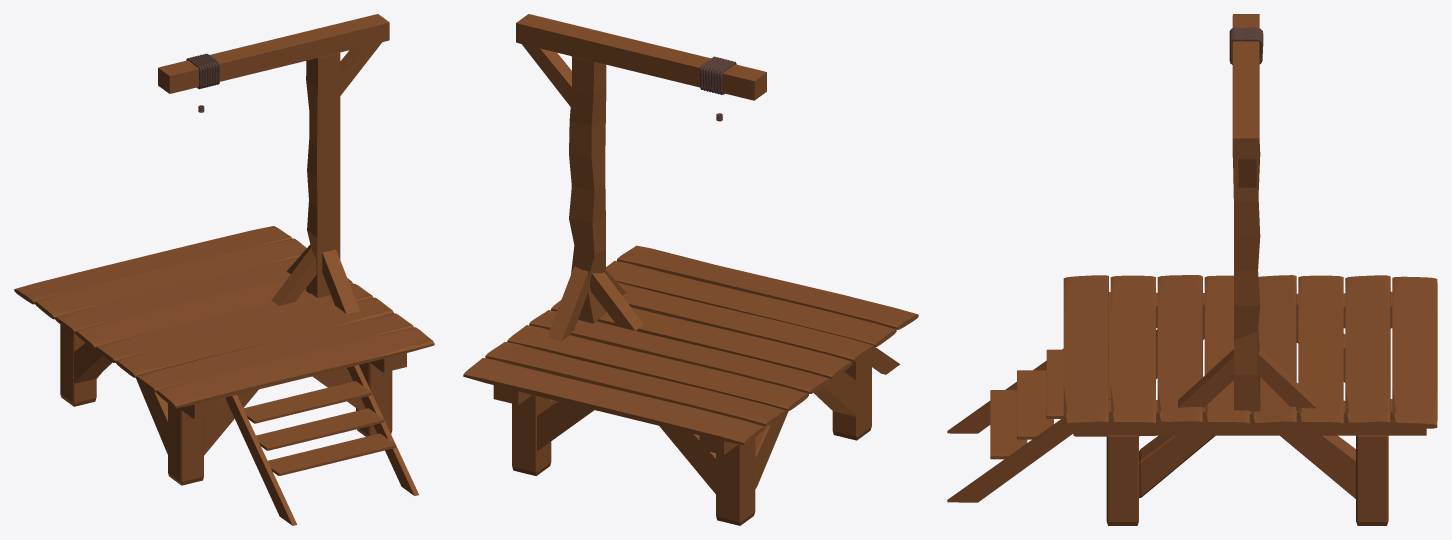
Rendered from Gantungan.fbx.
3 views of the same model, side by side, from view 1: azimuth 30°, elevation 25°; view 2: azimuth 150°, elevation 25°; view 3: azimuth 270°, elevation 25° (orthographic). The views are drawn at different scales.
Visible parts, largest first — view 1: Cube.213; view 2: Cube.213; view 3: Cube.213.
Boxes of the visible parts, x1,y1,x2,y2 form: Cube.213: [14, 14, 434, 525]; Cube.213: [463, 14, 918, 525]; Cube.213: [947, 14, 1437, 525].
Size of the model in its own units: 247 by 298 by 315.
